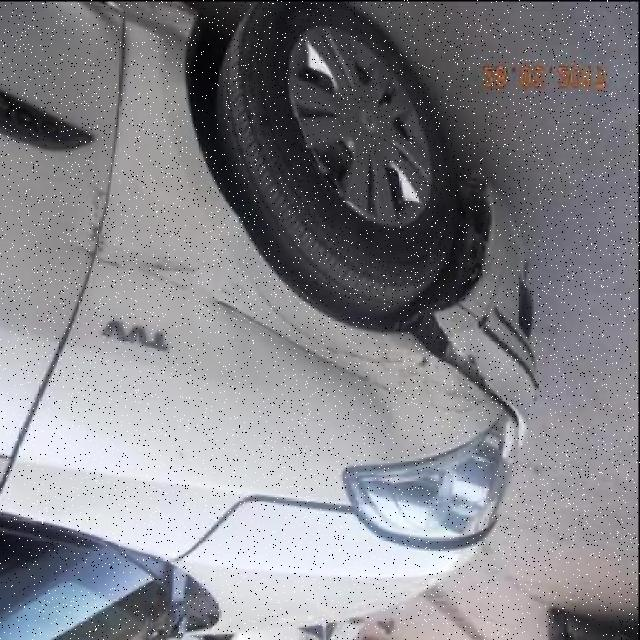damage: (227, 276, 500, 420), (207, 291, 403, 400), (415, 313, 523, 429), (70, 240, 207, 295), (68, 0, 195, 58), (451, 237, 517, 344), (82, 182, 111, 260), (467, 347, 485, 372)
